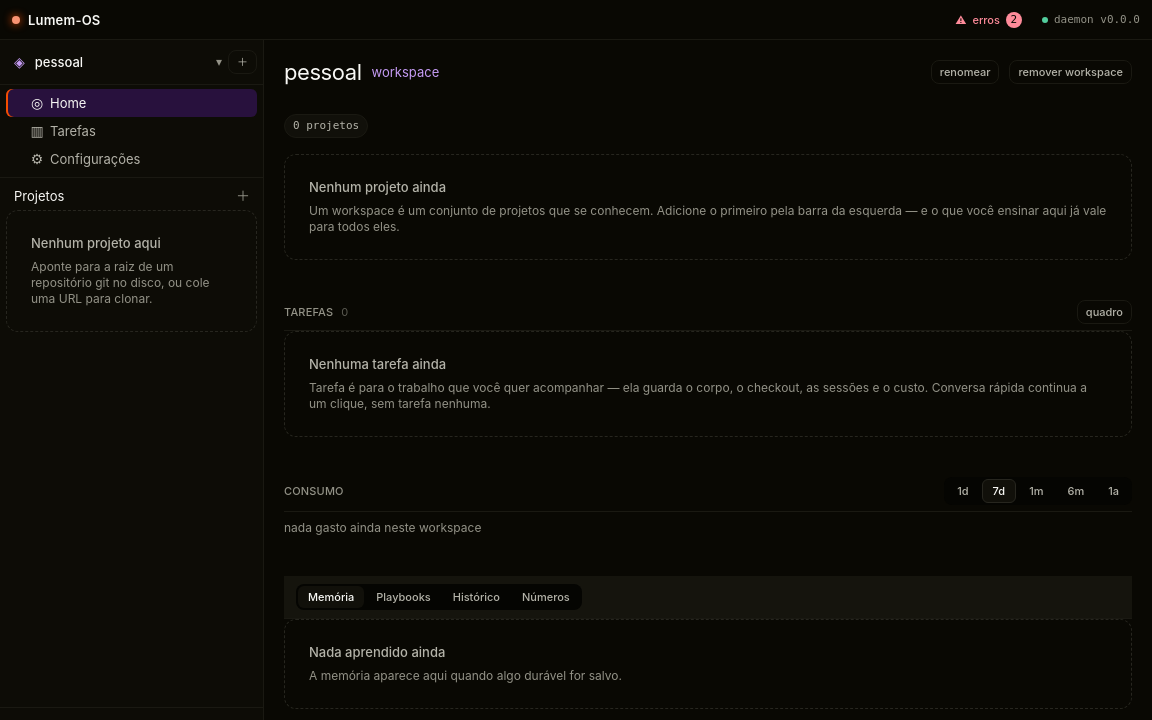
Test case: remover o workspace pela tela (T6) › depois de remover, o seletor aponta para o que sobrou
Select "pessoal" in the dropdown named "Workspace": (122, 62) [31,46,214,78]
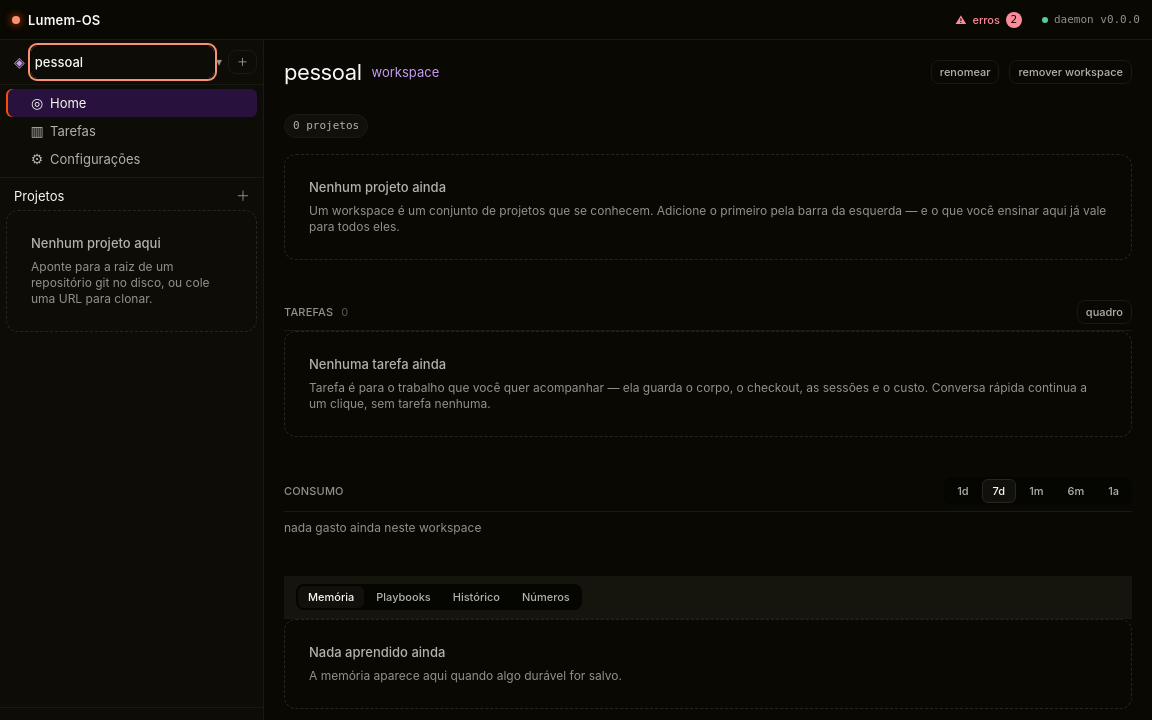
Expected: the text "Nenhum projeto ainda" is shown, [309,179,446,195]
Click the button "remover workspace": (1071, 72) [1010,60,1132,84]
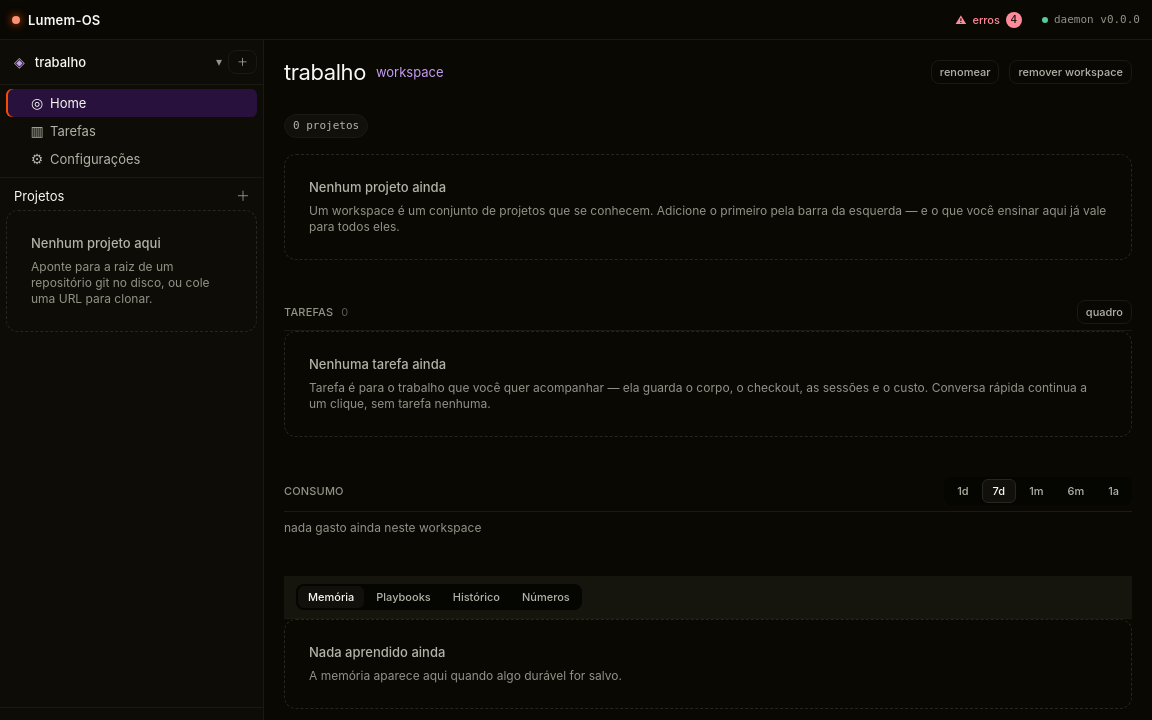
Expected: the heading "trabalho" is shown, [284,58,366,86]
